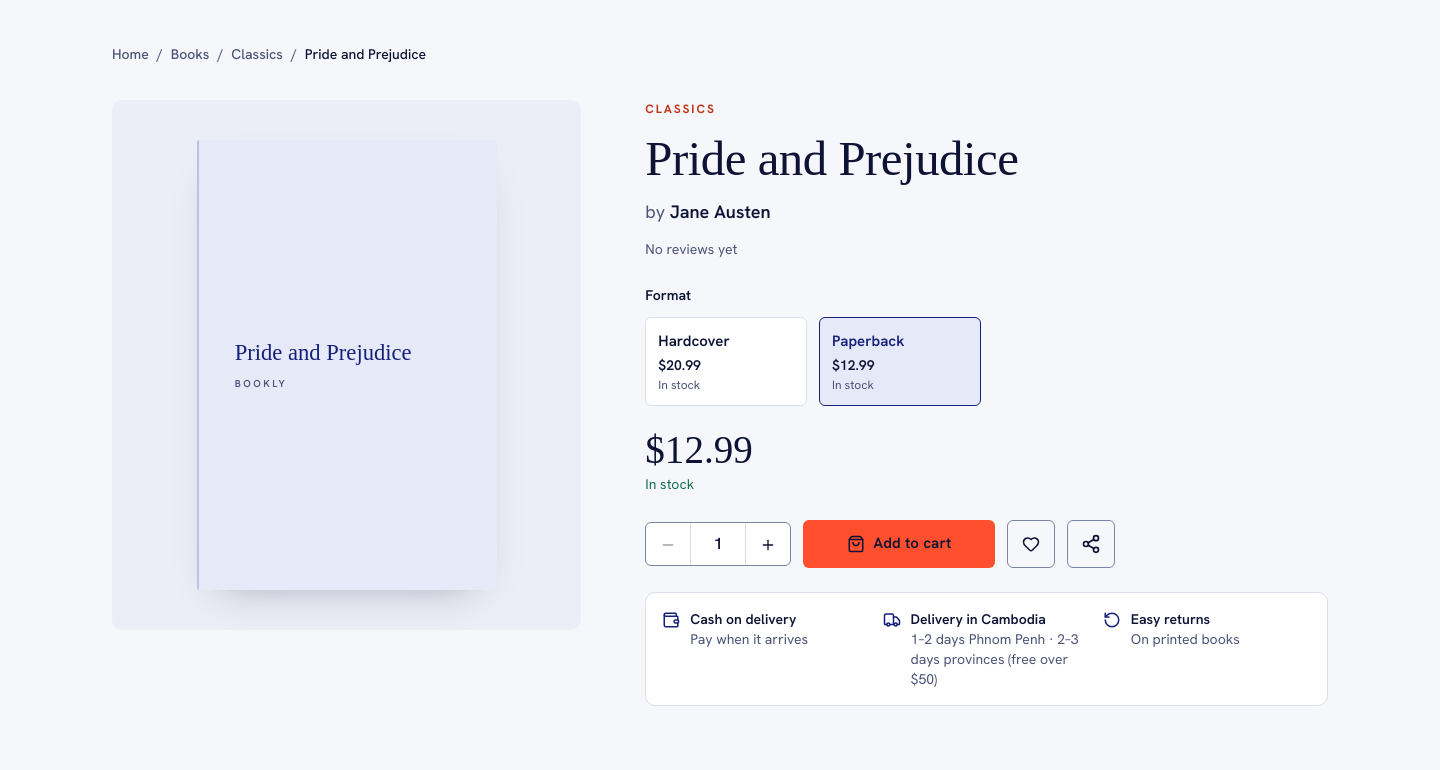
it: BookDetailPage › preselects the cheapest format, switches price, and remembers the book
Expected: the heading "Pride and Prejudice" is shown, [645,130,1018,186]
Expected: the radio button labelled "Paperback $12.99 In stock" is checked, [819,317,981,406]
Click the radio button labelled "Hardcover $20.99 In stock" at [726, 361], box [645,317,807,406]
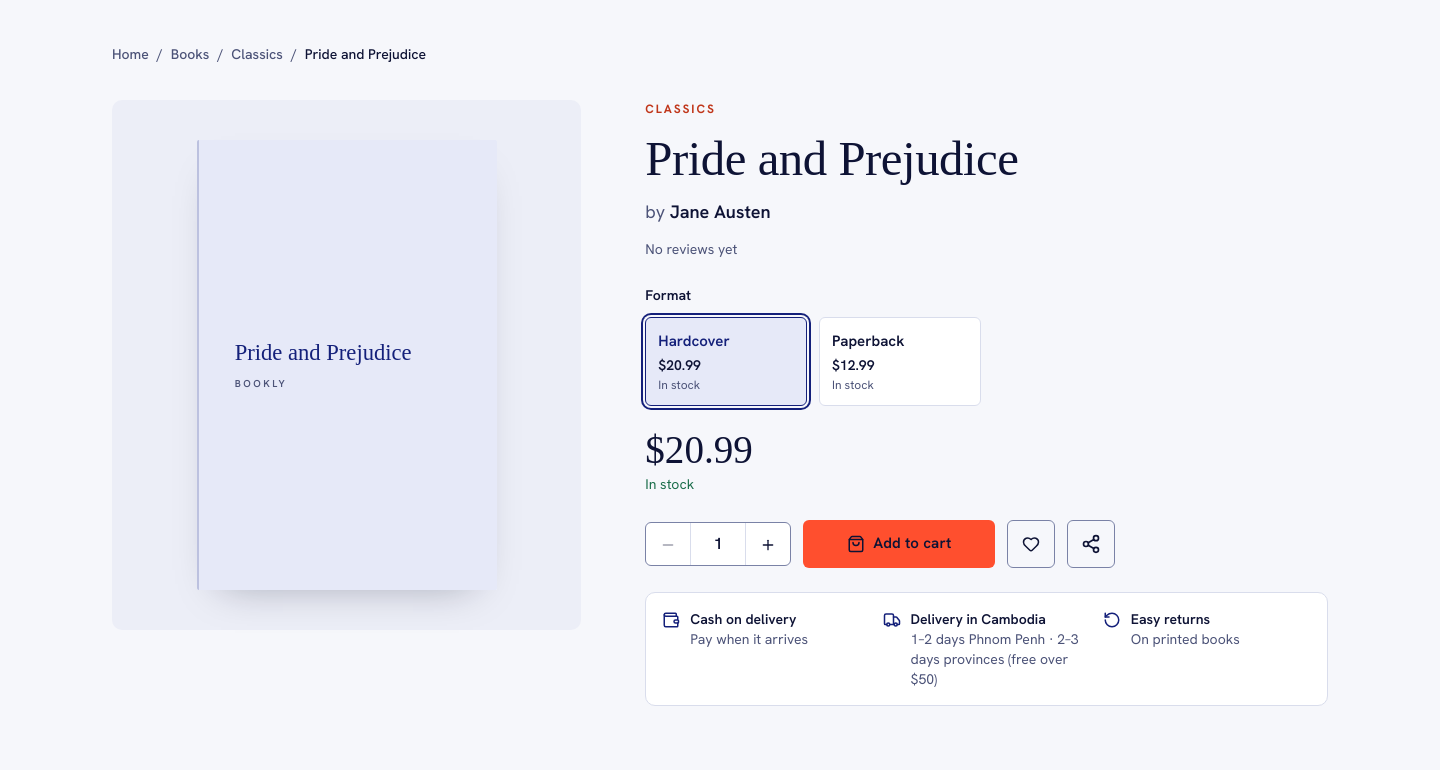
Result: the 2nd text "$20.99" is shown at [645,428,753,471]
